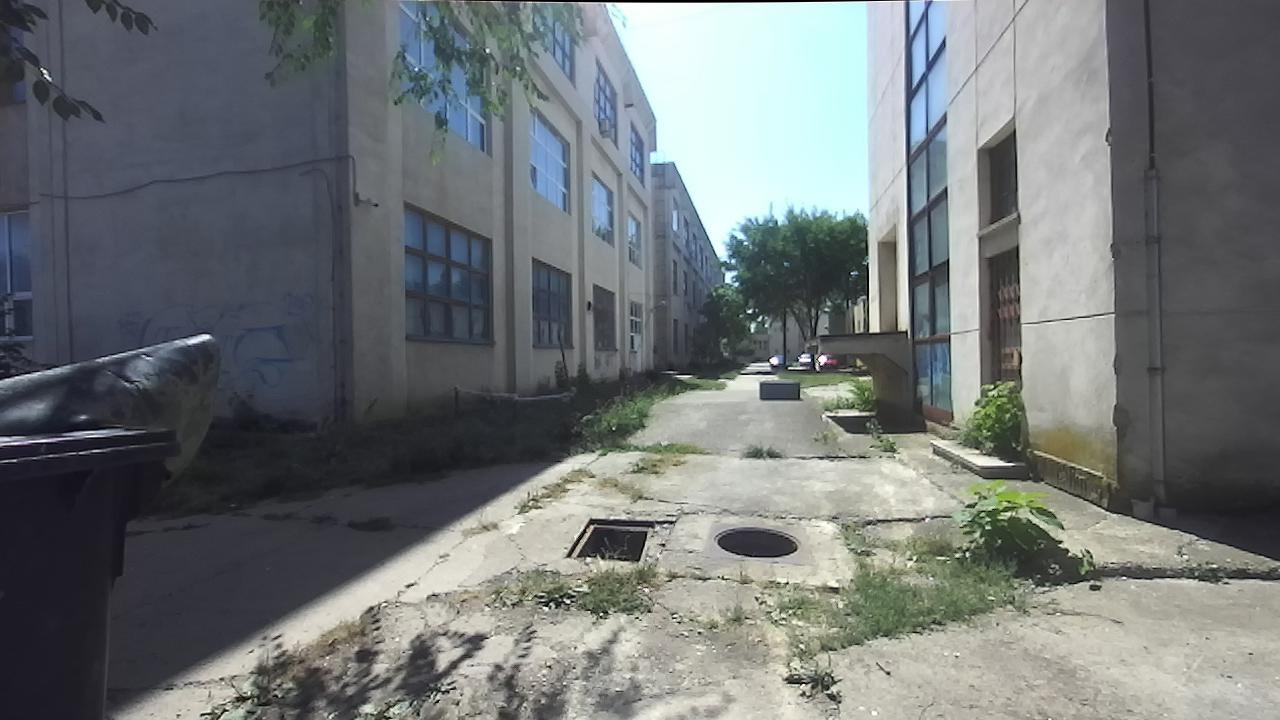drain: (556, 513, 657, 569), (707, 522, 808, 560)
